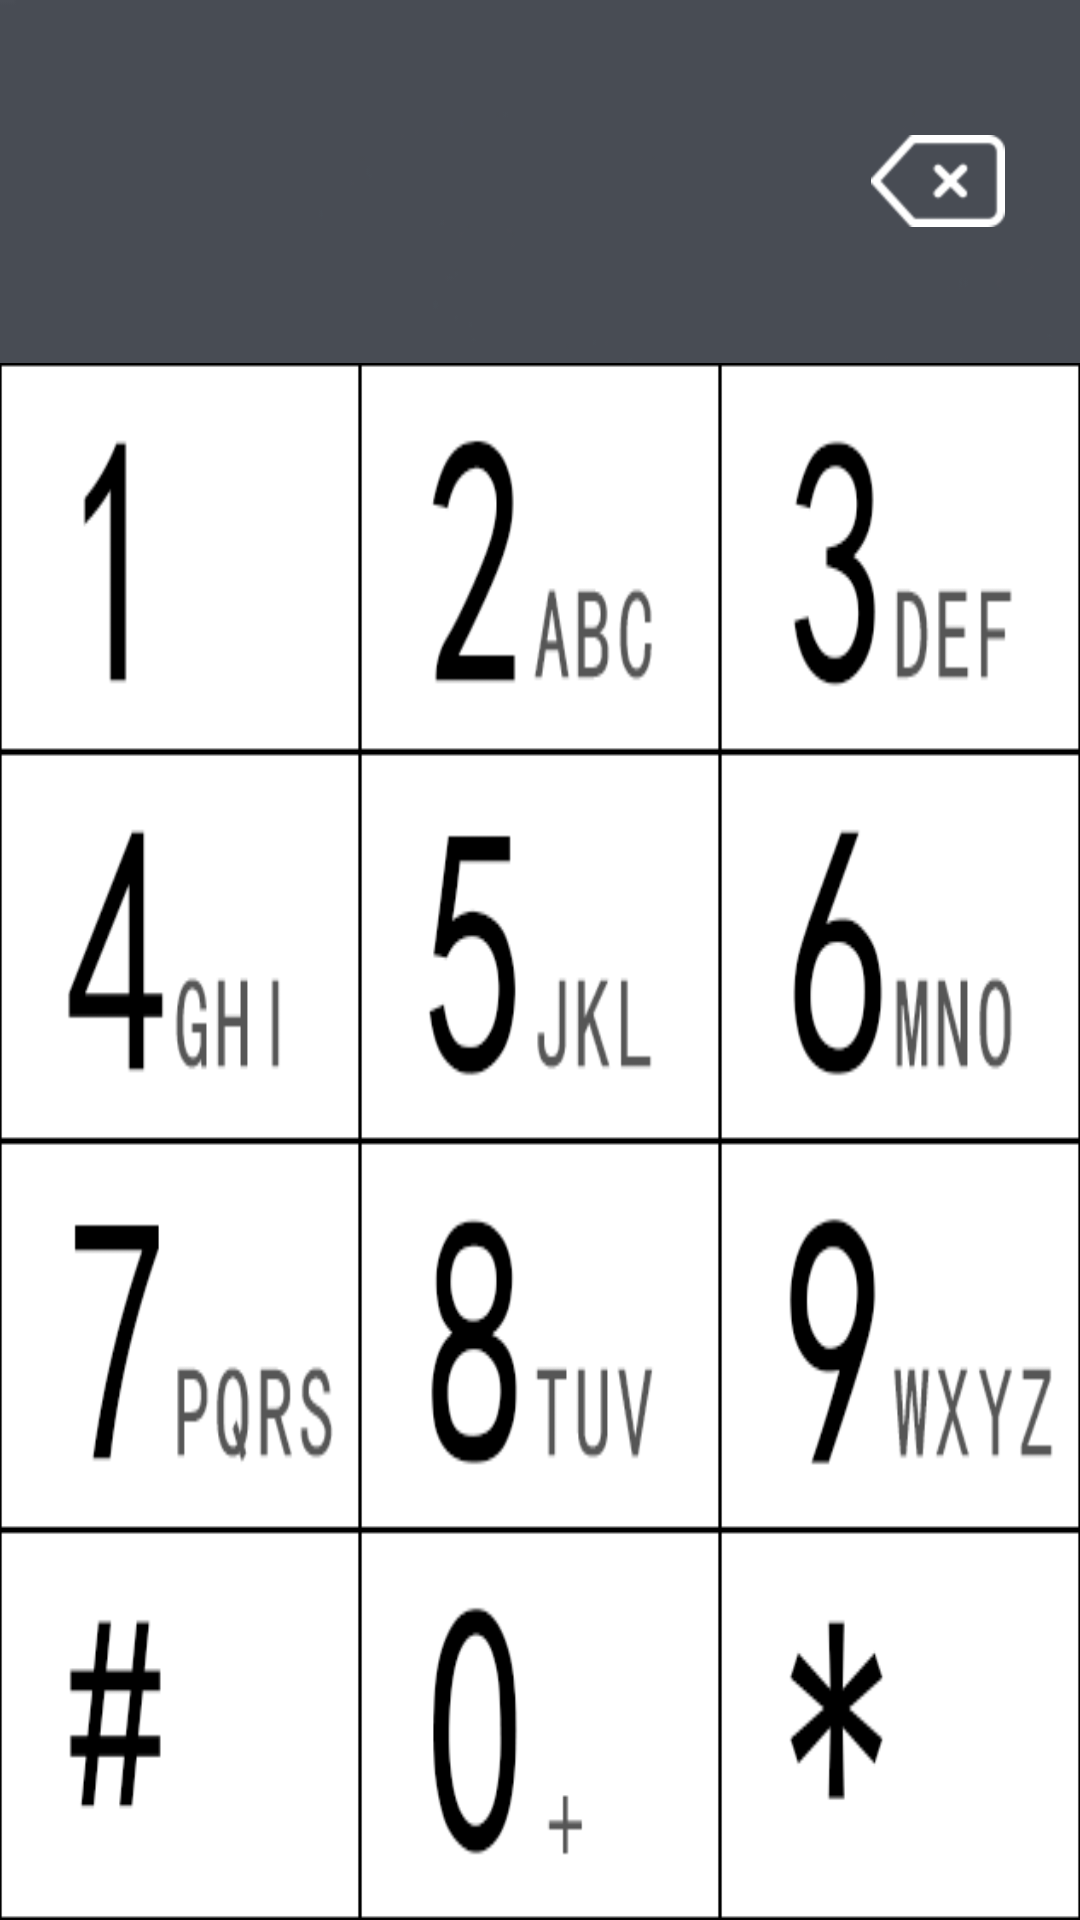

Icons on this 1080*1920 Android screen, each with the point to tap as [x,y]:
delete: [938,181]
